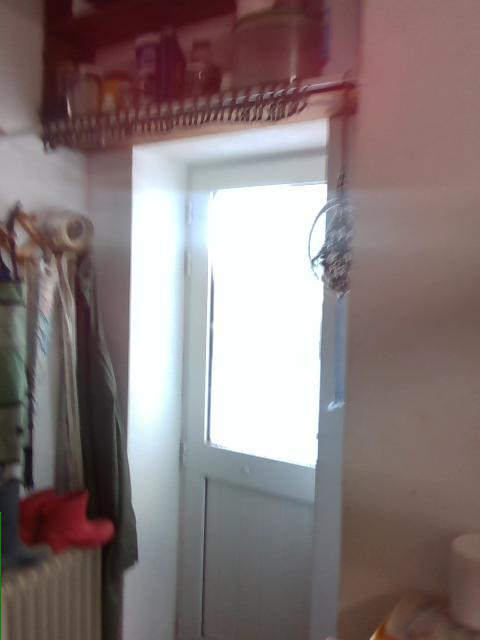closed_door: (120, 111, 347, 639)
